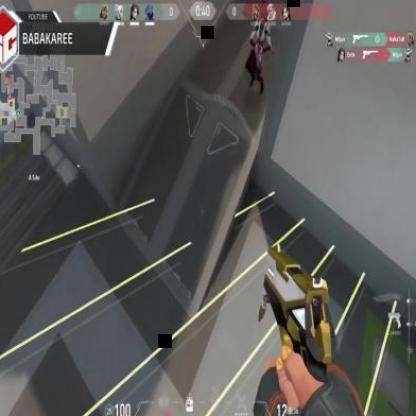enemy: (244, 0, 272, 101)
enemy_head: (256, 1, 268, 26)
